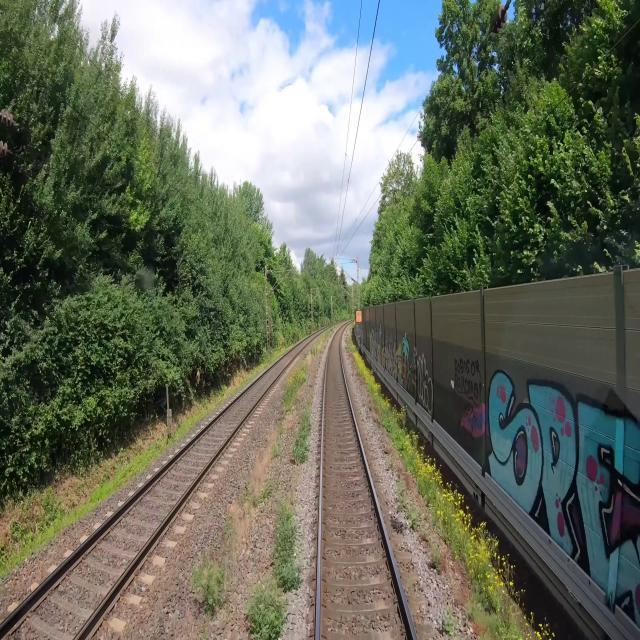Plant: (242, 500, 302, 639), (397, 476, 442, 571), (268, 361, 306, 460), (190, 555, 226, 615), (290, 407, 315, 465), (238, 476, 276, 510), (443, 604, 456, 638), (383, 457, 394, 475)
